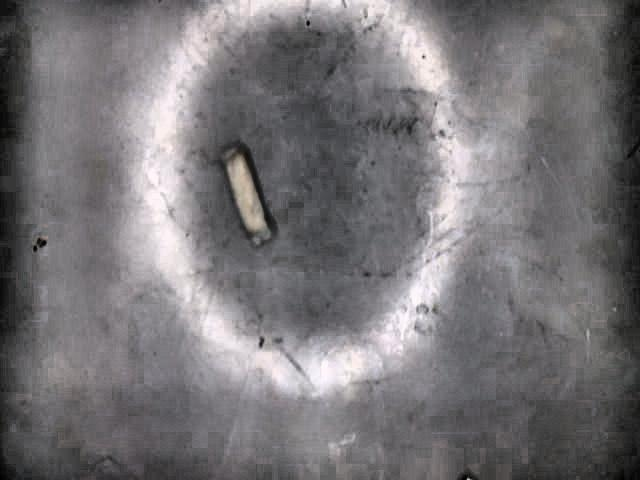Almennt: (220, 146, 275, 247)
